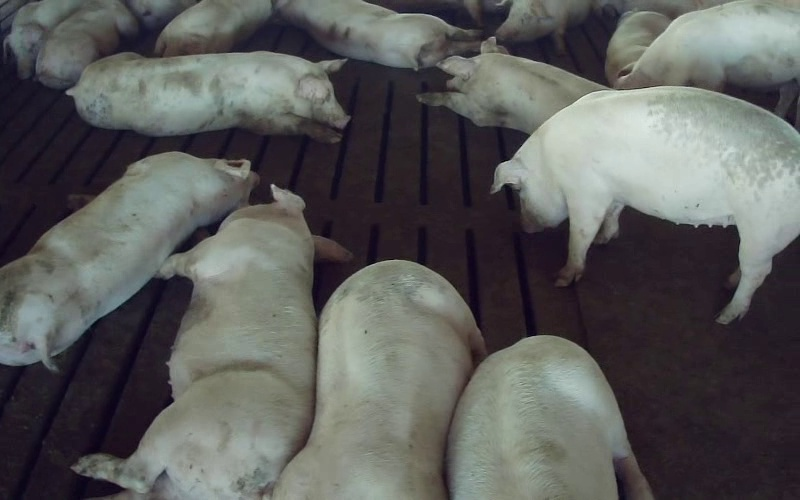pig: (73, 186, 349, 499), (492, 87, 799, 323), (0, 152, 257, 370), (273, 260, 485, 499), (447, 336, 652, 499), (67, 51, 349, 142), (417, 37, 607, 133), (276, 0, 479, 69), (154, 0, 272, 56)
